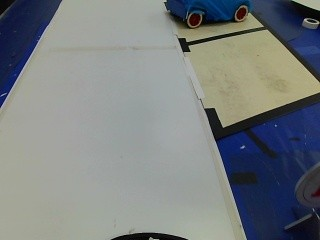car: (159, 0, 253, 29)
